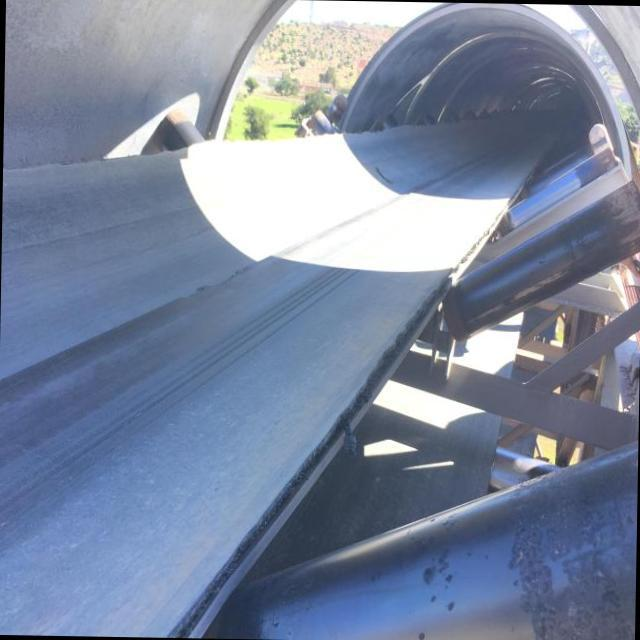Tear: (2, 150, 496, 386)
